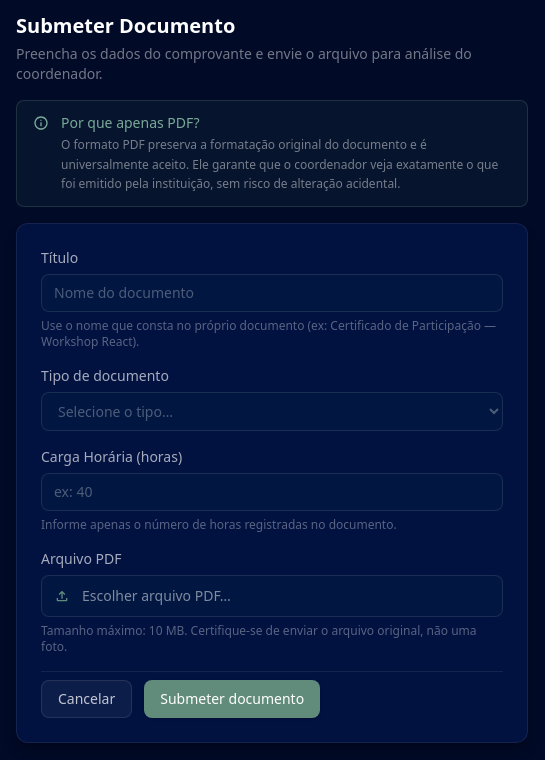
Test: SubmeterDocumento — validação de campos › exibe erro quando nenhum arquivo é selecionado
Type "Certificado Válido" into the field with placeholder "Nome do documento" at (272, 292), box x1=41 y1=274 x2=503 y2=312
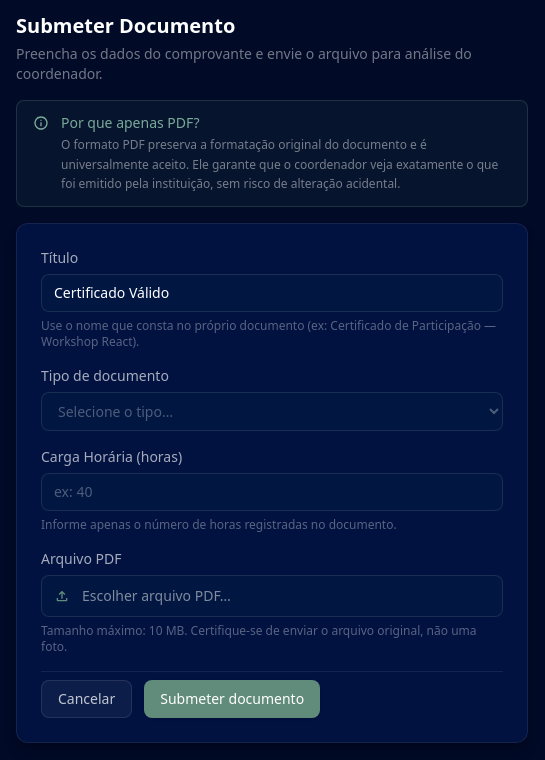
Select "Certificado de Curso" in the dropdown at (272, 411), box x1=41 y1=392 x2=503 y2=430
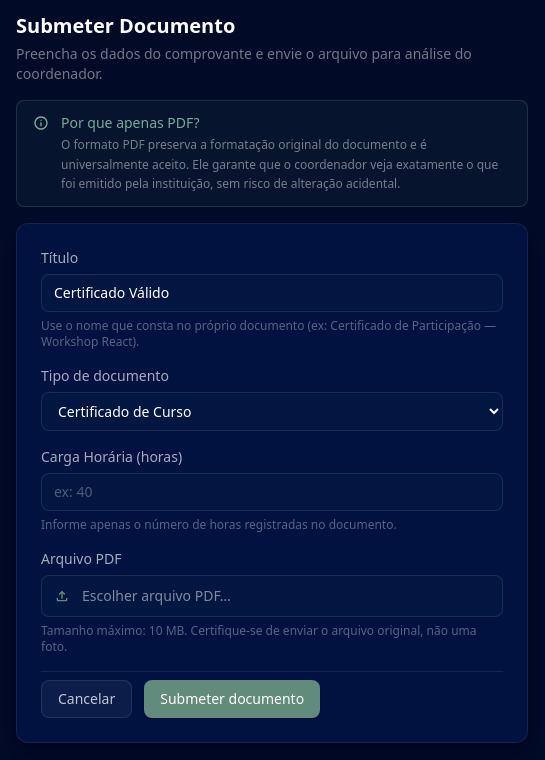
Type "40" into the number field with placeholder "ex: 40" at (272, 492), box x1=41 y1=472 x2=503 y2=510
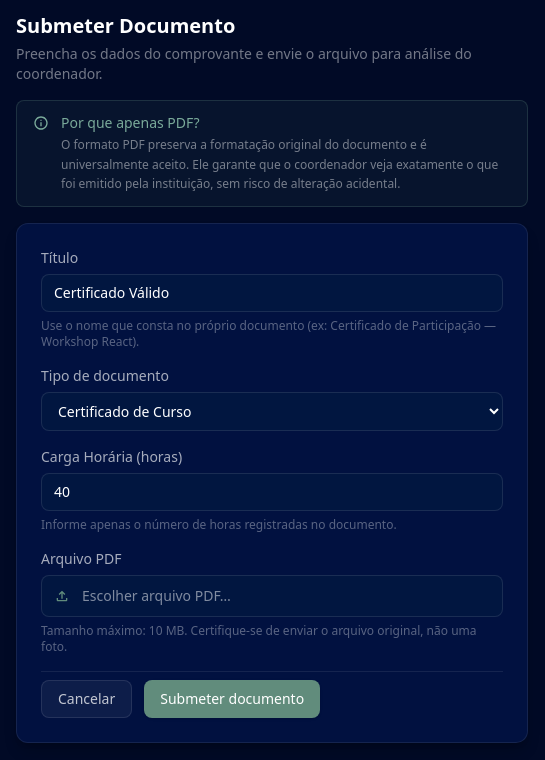
Click the button "Submeter documento" at (232, 698), box x1=144 y1=680 x2=320 y2=718
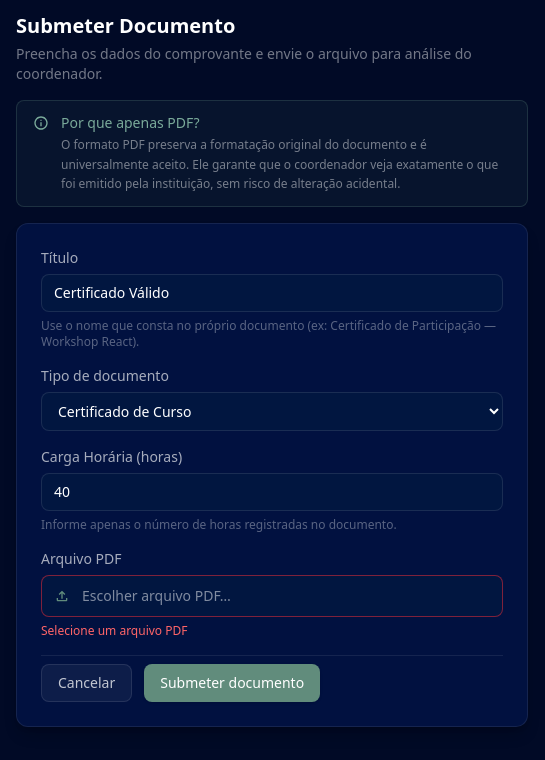
Expected: the text "Selecione um arquivo PDF" is shown, x1=41 y1=622 x2=188 y2=638
